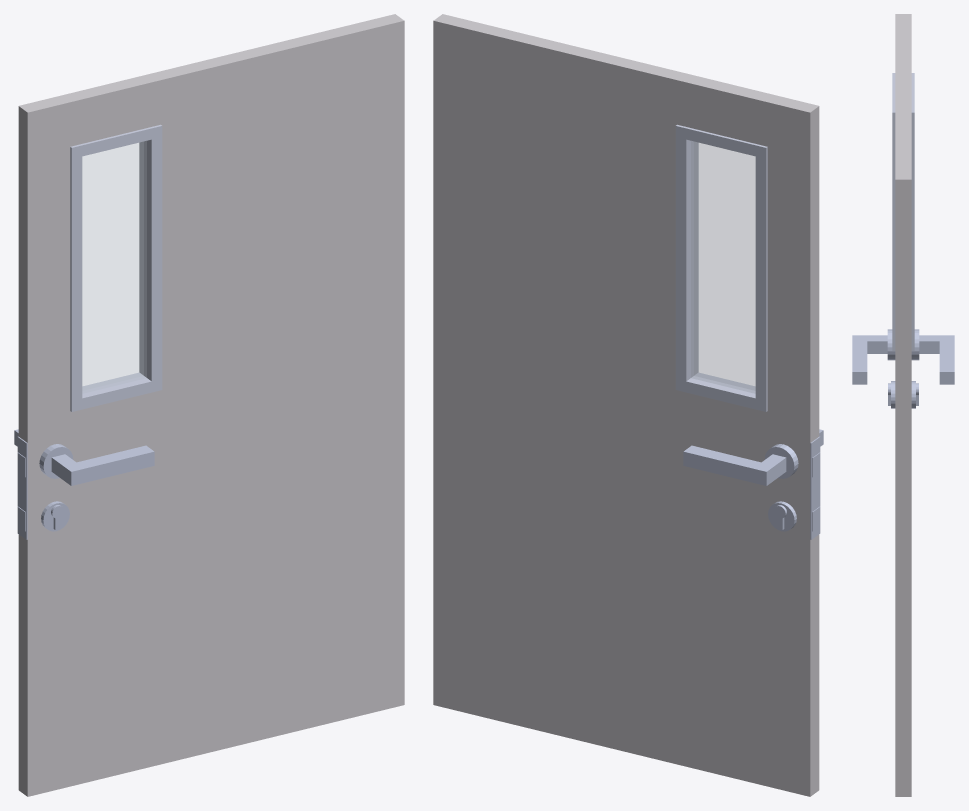
Rendered from hospital_door.glb.
The picture shows the model from 3 angles, left to right: view 1: azimuth 30°, elevation 25°; view 2: azimuth 150°, elevation 25°; view 3: azimuth 270°, elevation 25°; orthographic projection. The views are drawn at different scales.
Visible parts, largest first — view 1: Door; view 2: Door; view 3: Door.
Boxes of the visible parts, <box> form: Door: <box>14,14,404,796</box>; Door: <box>433,14,823,796</box>; Door: <box>852,14,954,796</box>.
Bounding box in the file's own units: 712 × 1230 × 185.
